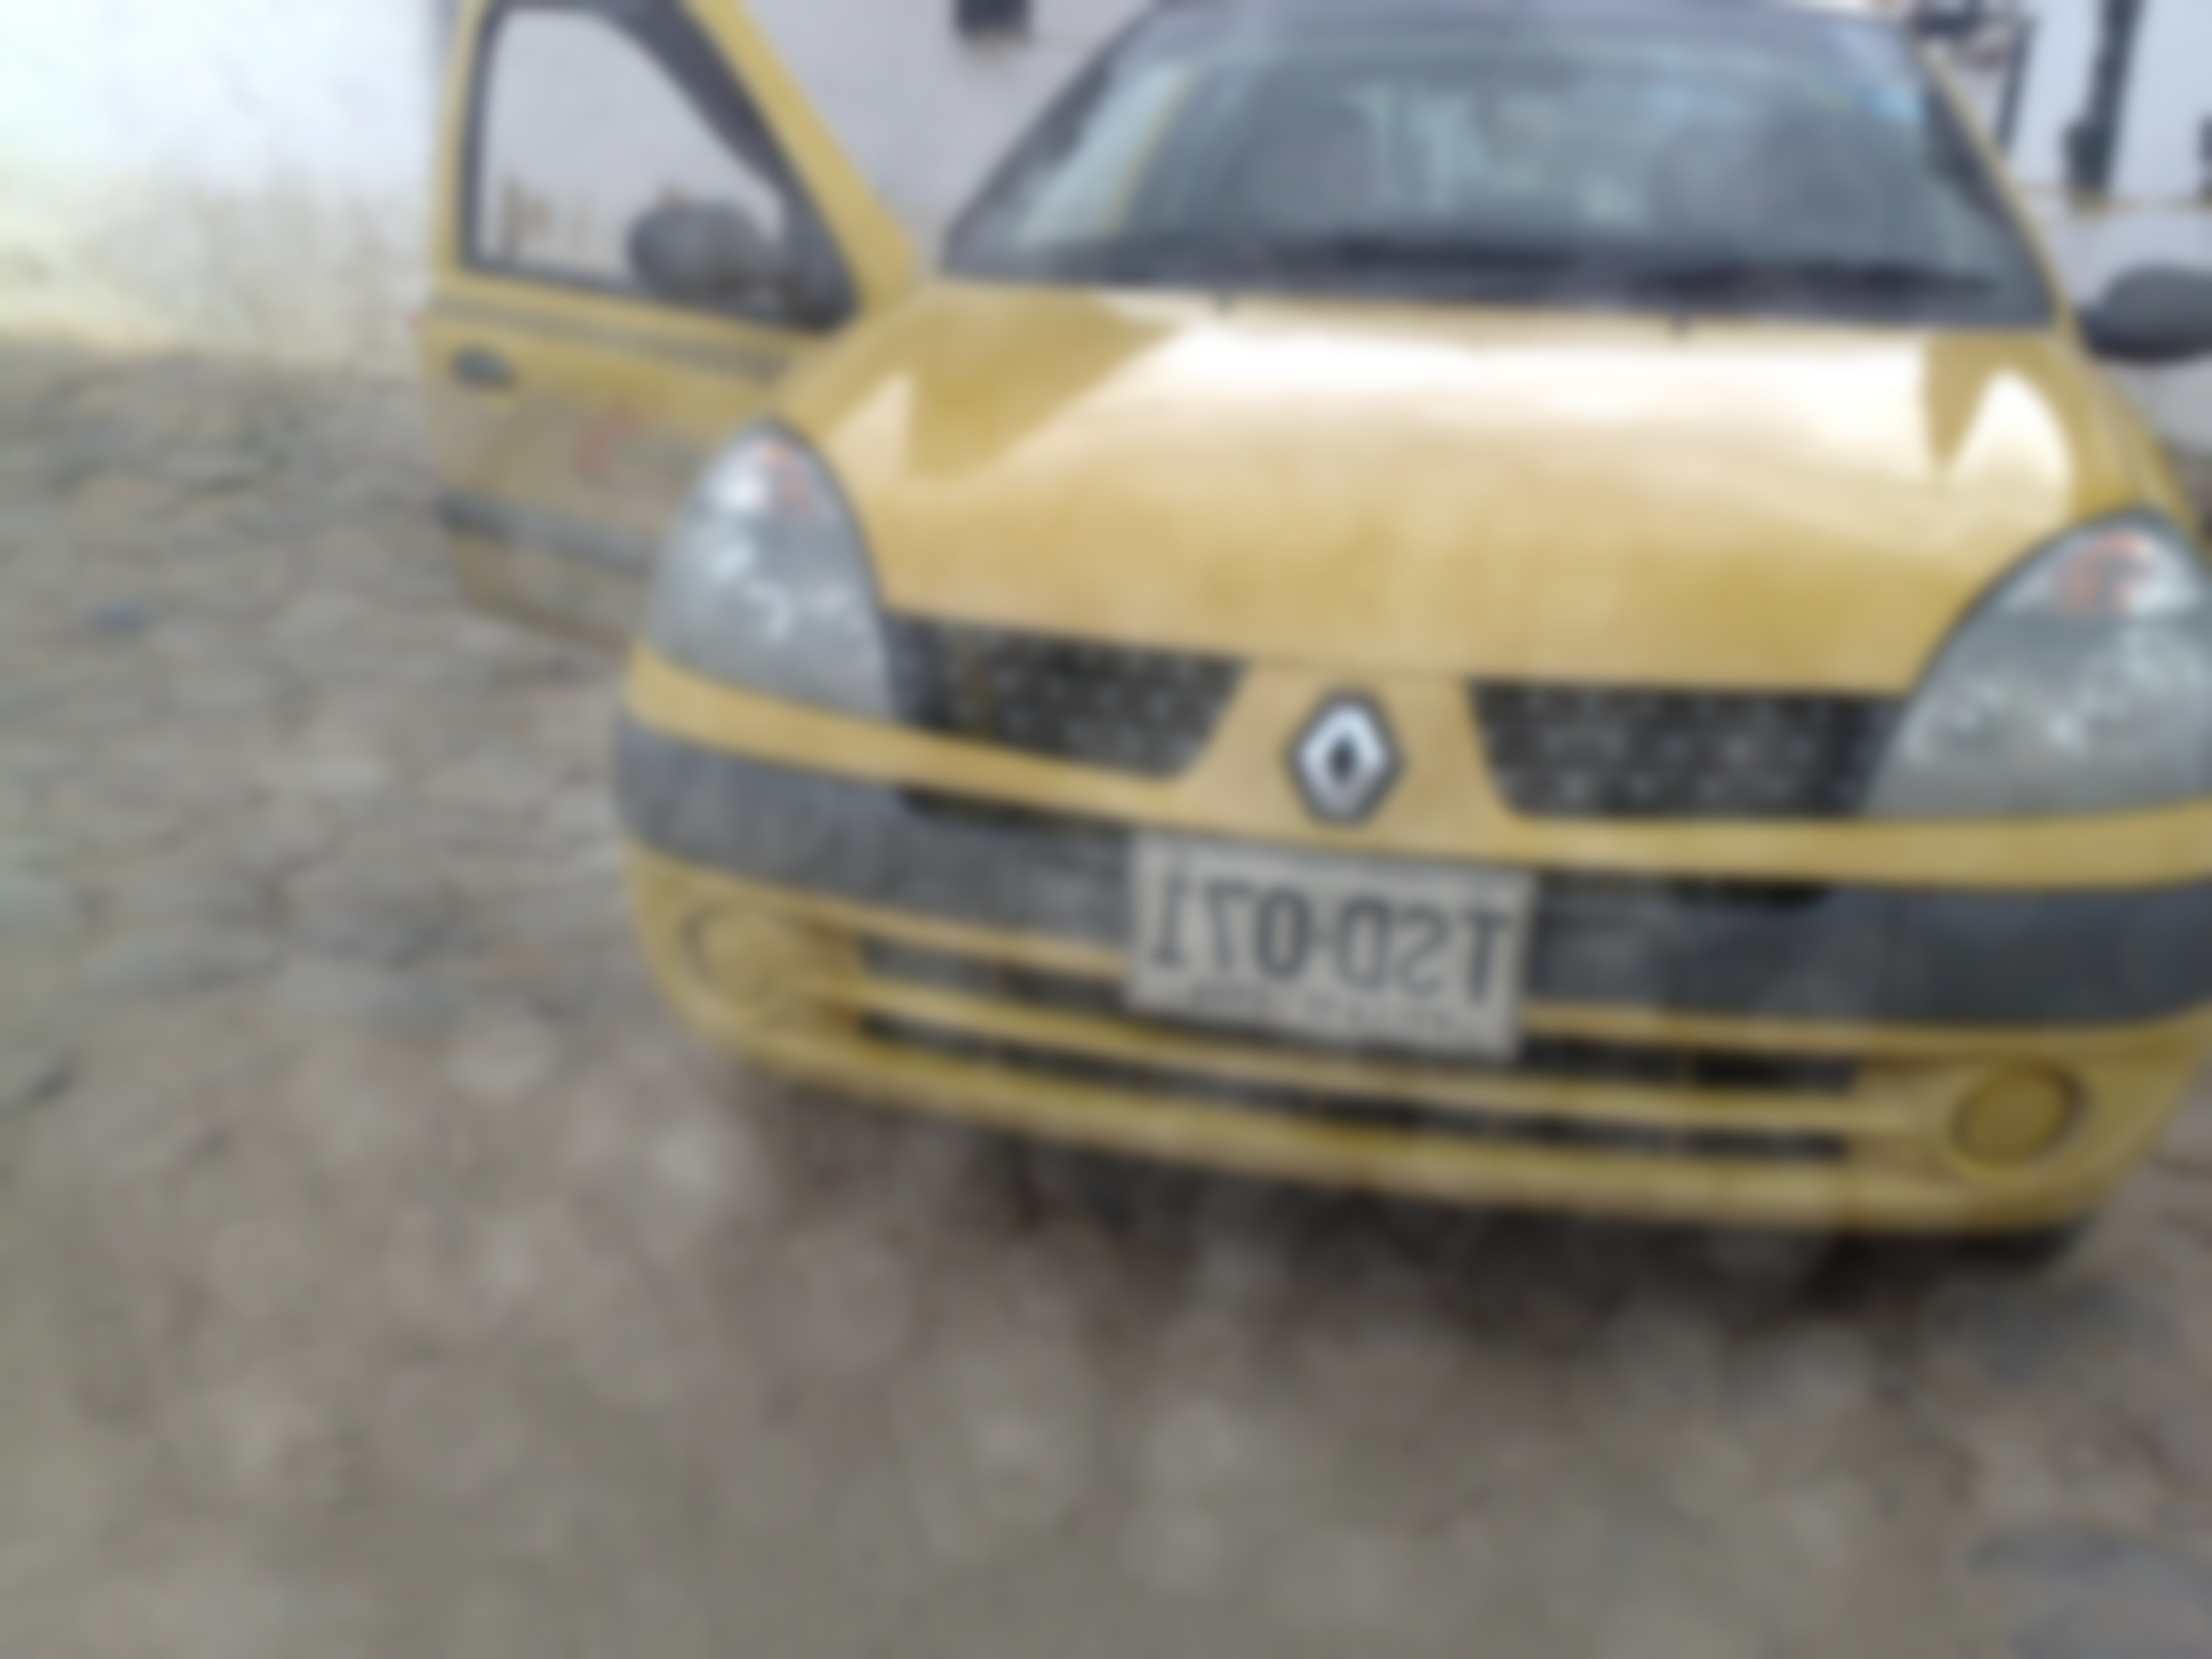placas: (1116, 826, 1546, 1073)
